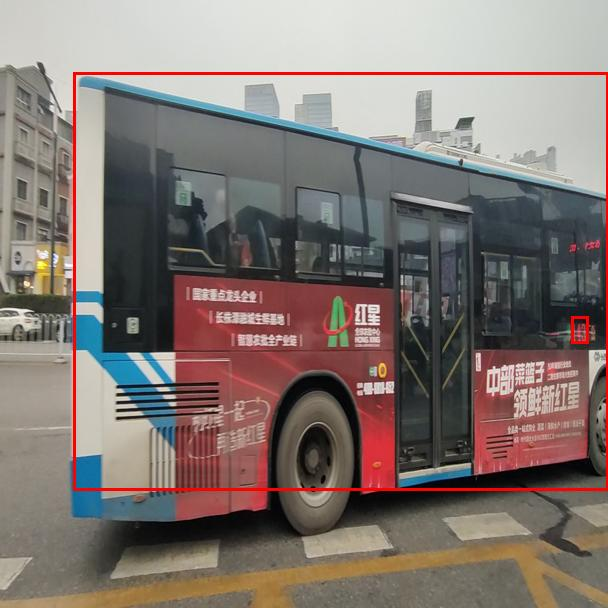bus: (73, 72, 608, 490)
screen: (571, 316, 588, 343)
